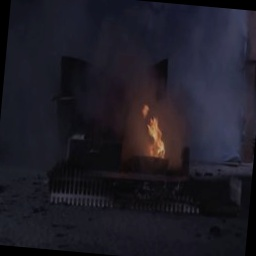fire: (134, 104, 176, 165)
smoke: (21, 0, 252, 112)
